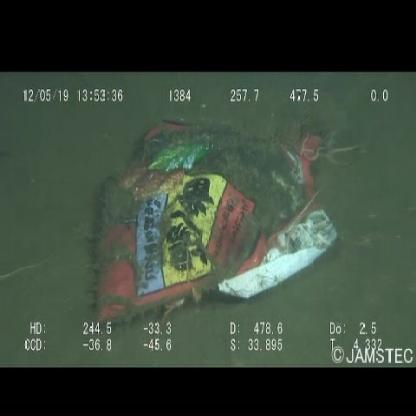Rác: (83, 117, 346, 329)
